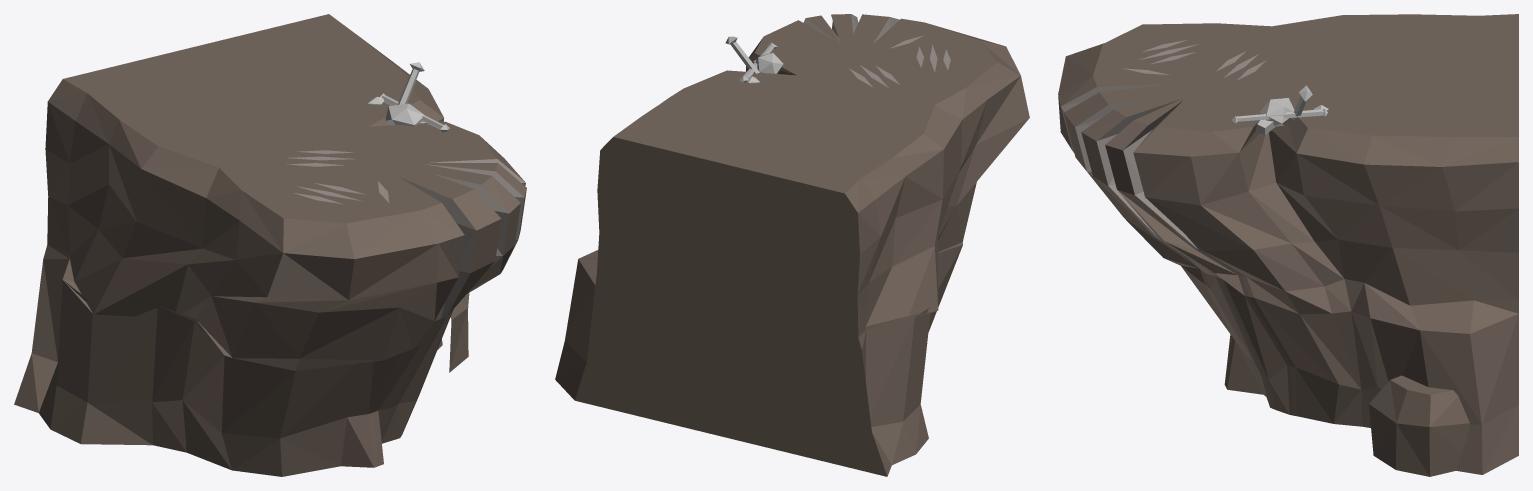
The model's file is cliff-perch-ledge-afb065.glb.
3 renders of one model, left to right at view 1: azimuth 30°, elevation 25°; view 2: azimuth 150°, elevation 25°; view 3: azimuth 270°, elevation 25°, orthographic. The views are drawn at different scales.
Parts seen in each view (by area): view 1: rock, bones-mesh; view 2: rock, bones-mesh; view 3: rock, bones-mesh.
Boxes of the visible parts, <box> form: rock: <box>14,14,526,476</box>; bones-mesh: <box>368,62,449,132</box>; rock: <box>555,14,1029,476</box>; bones-mesh: <box>725,36,783,83</box>; rock: <box>1058,14,1518,476</box>; bones-mesh: <box>1231,85,1328,134</box>.
Size of the model in its own units: 6.82 by 5.63 by 7.01.
